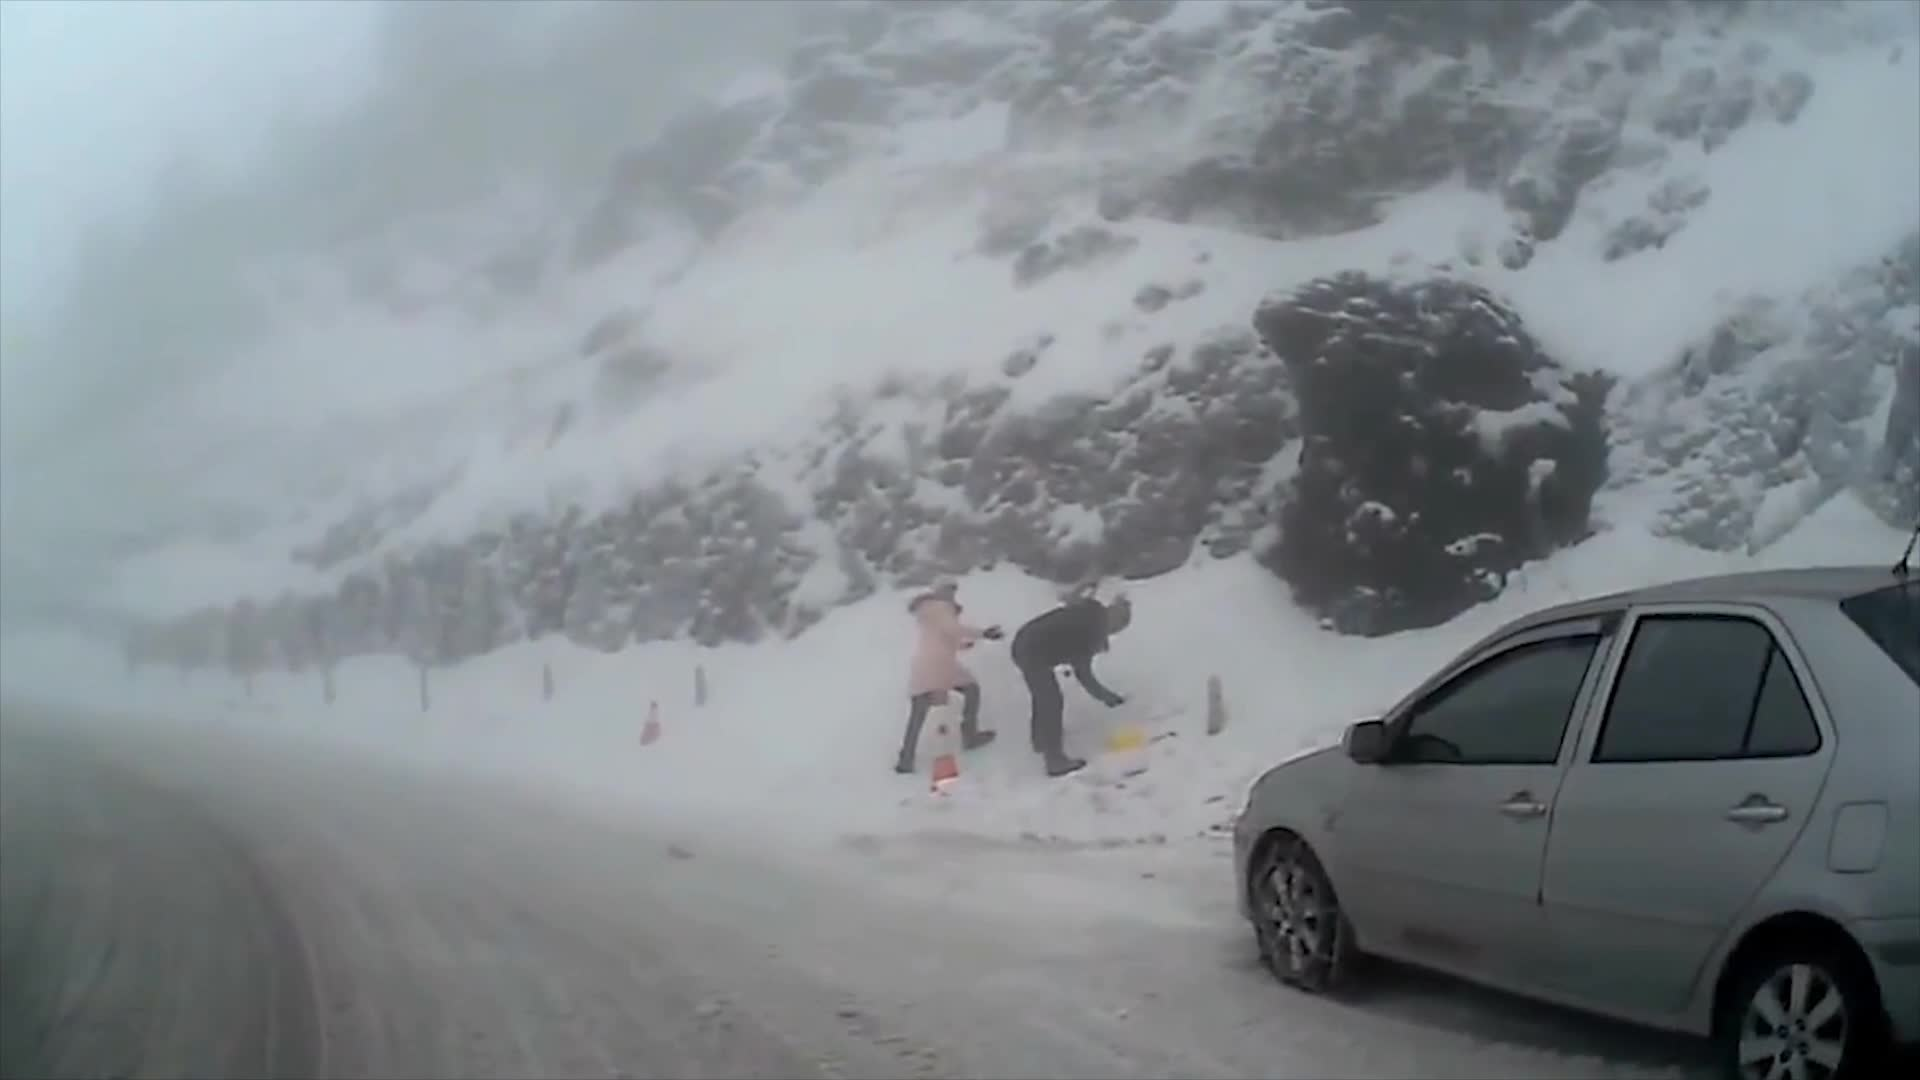pedestrian: (888, 573, 1008, 774), (1007, 594, 1129, 778)
vehicle: (1232, 562, 1920, 1080)
